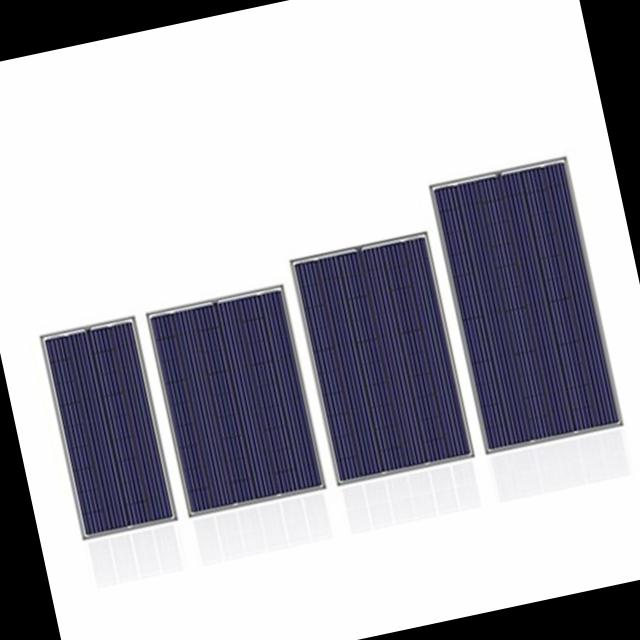no faulty: (438, 165, 619, 447), (297, 231, 470, 482), (156, 285, 326, 509), (50, 322, 171, 530)
